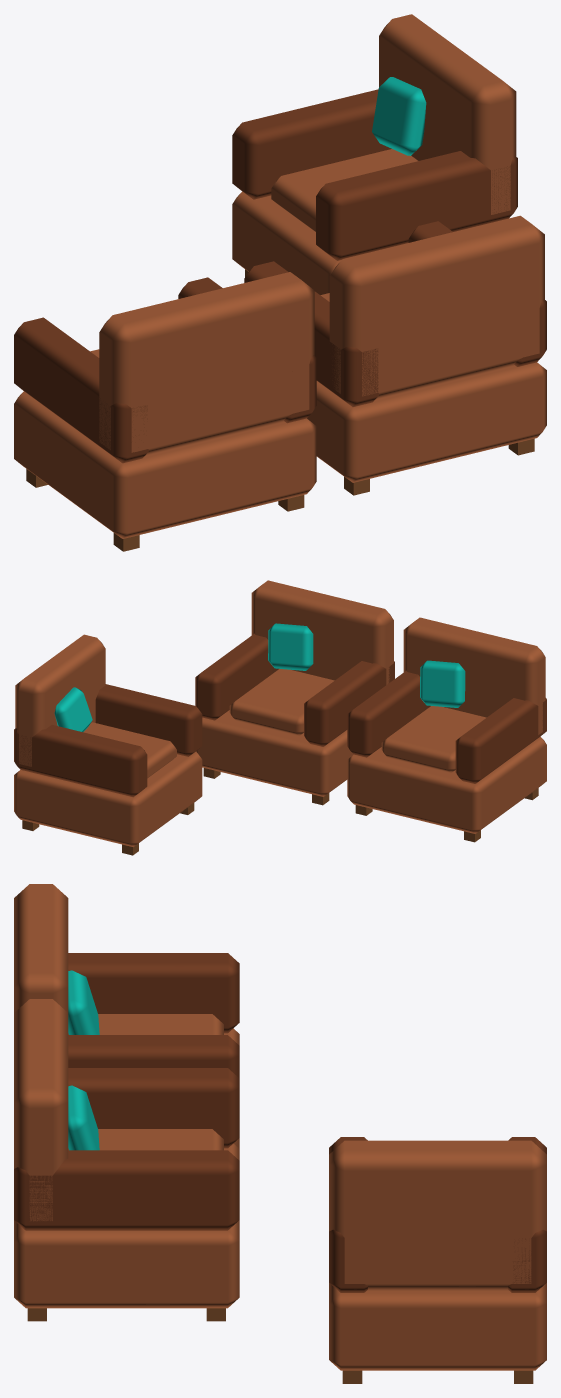
Rendered from station_special_ausstattung_3_2.glb.
The picture shows the model from 3 angles, top to bottom: view 1: azimuth 30°, elevation 25°; view 2: azimuth 150°, elevation 25°; view 3: azimuth 270°, elevation 25°; orthographic projection. The views are drawn at different scales.
Visible parts, largest first — view 1: station_special_ausstattung_3_2; view 2: station_special_ausstattung_3_2; view 3: station_special_ausstattung_3_2.
Boxes of the visible parts, x1,y1,x2,y2 form: station_special_ausstattung_3_2: [14, 14, 546, 551]; station_special_ausstattung_3_2: [14, 580, 546, 855]; station_special_ausstattung_3_2: [14, 884, 546, 1383].
Bounding box in the file's own units: 1.7 × 0.66 × 1.37.
